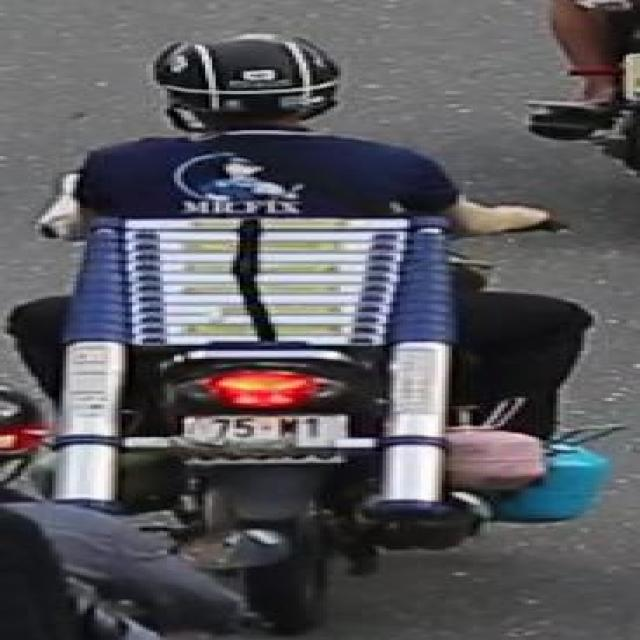helmet: (143, 29, 351, 140)
